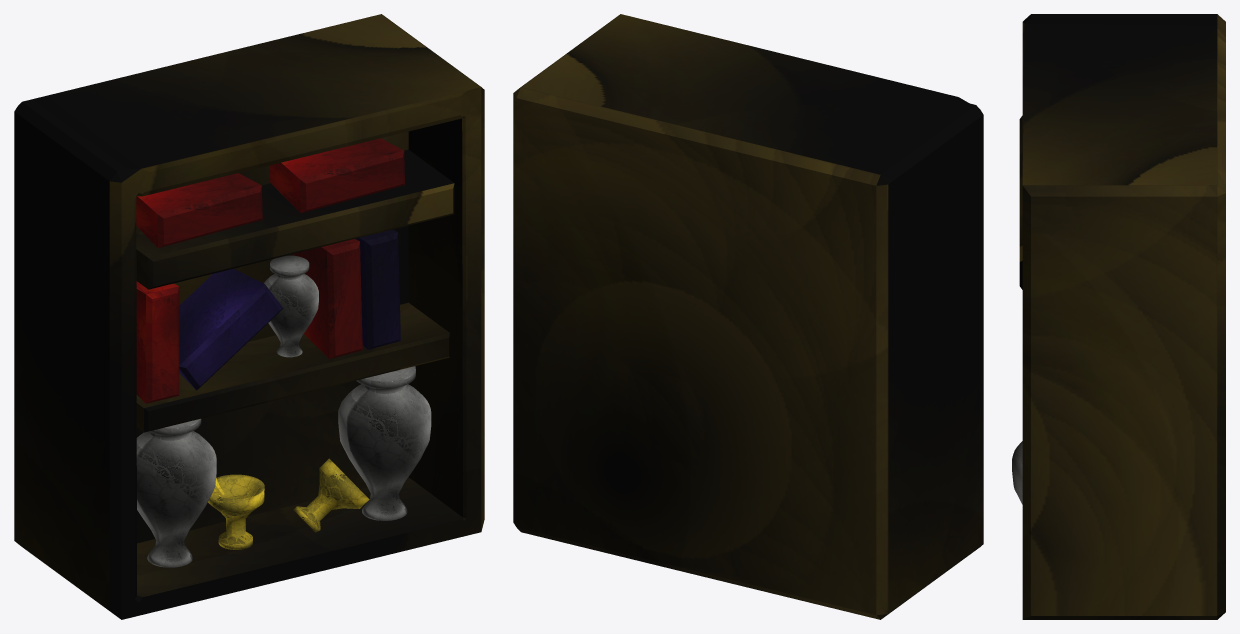
Rendered from Shelf.glb.
The picture shows the model from 3 angles, left to right: view 1: azimuth 30°, elevation 25°; view 2: azimuth 150°, elevation 25°; view 3: azimuth 270°, elevation 25°; orthographic projection. The views are drawn at different scales.
Parts seen in each view (by area): view 1: Shelf, Big_Vase2, Big_Vase, Book3, Book1, Book6, Book4, Book2, Book5, Small_Vase, Vase2, Vase1; view 2: Shelf; view 3: Shelf, Big_Vase2.
Part boxes in pixels (x1,y1,x2,y2): Shelf: (14, 14, 484, 619); Big_Vase2: (338, 366, 431, 520); Big_Vase: (136, 418, 216, 567); Book3: (179, 268, 283, 390); Book1: (269, 138, 404, 212); Book6: (136, 173, 262, 247); Book4: (292, 239, 362, 359); Book2: (136, 281, 179, 403); Book5: (355, 229, 400, 349); Small_Vase: (263, 255, 318, 357); Vase2: (208, 474, 264, 549); Vase1: (293, 458, 369, 532); Shelf: (513, 14, 983, 619); Shelf: (1019, 14, 1225, 619); Big_Vase2: (1012, 441, 1022, 504).
Size of the model in its own units: 2.14 by 2.42 by 1.08.
5 materials, 5 textured.
